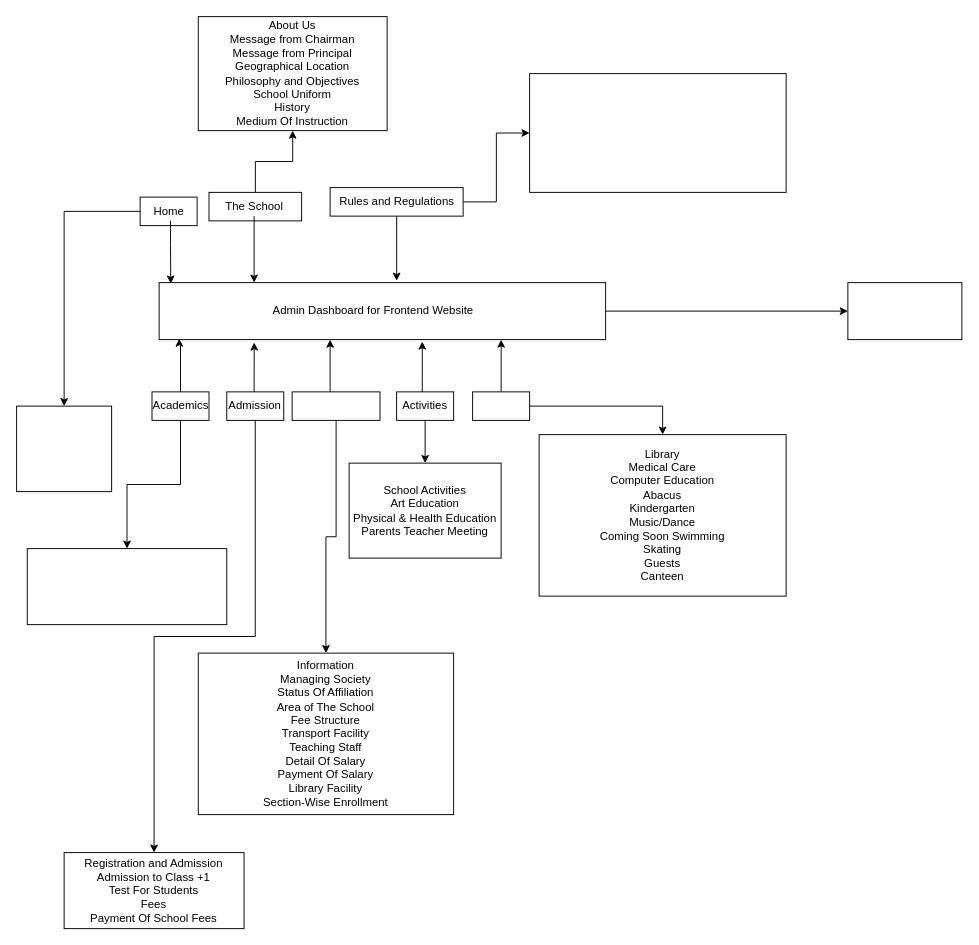
This 979x945 diagram has some shape labels left out. Each missing label, with the centre of its shape:
"Affiliation Examinations Withdrawals Remedial Awards" belongs at (126,586).
"Contact Us" belongs at (904,311).
"Facilities" belongs at (501,405).
"School Info" belongs at (335,405).
"Slider About Section Latest News Time Table" belongs at (64,448).
"Visits School Rules Leave Regulations Serious Offences" belongs at (657,132).
